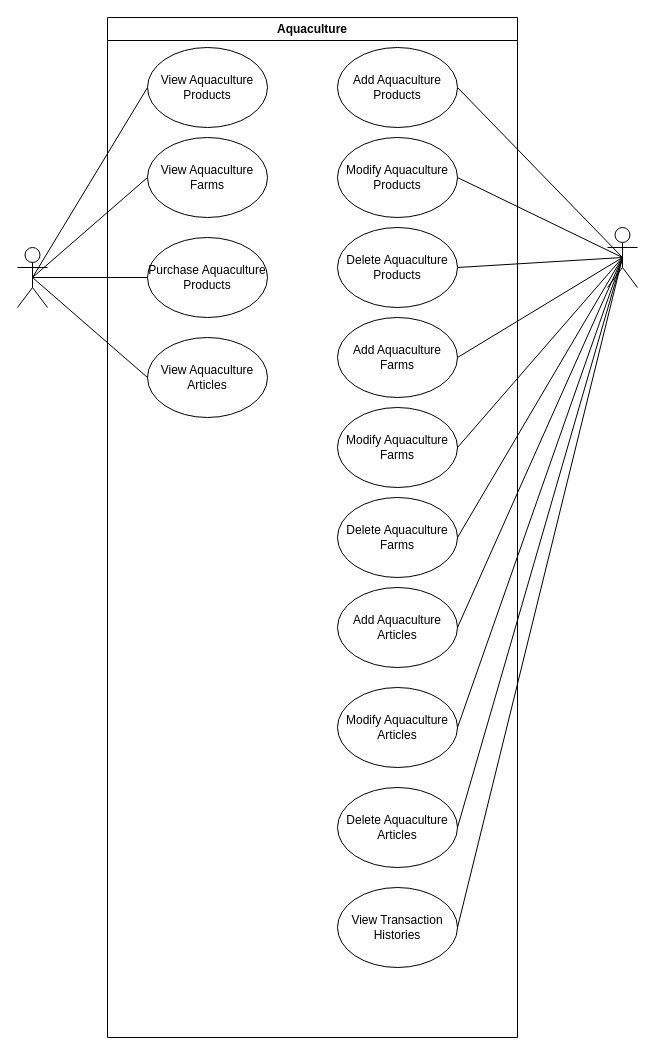
Image size: 657x1055. Some labels were removed from this diagram. The box of each missing label's shape, as (x1, y1, x2, y2) in pixels:
Admin: (606, 226, 638, 288)
User: (16, 246, 48, 308)
